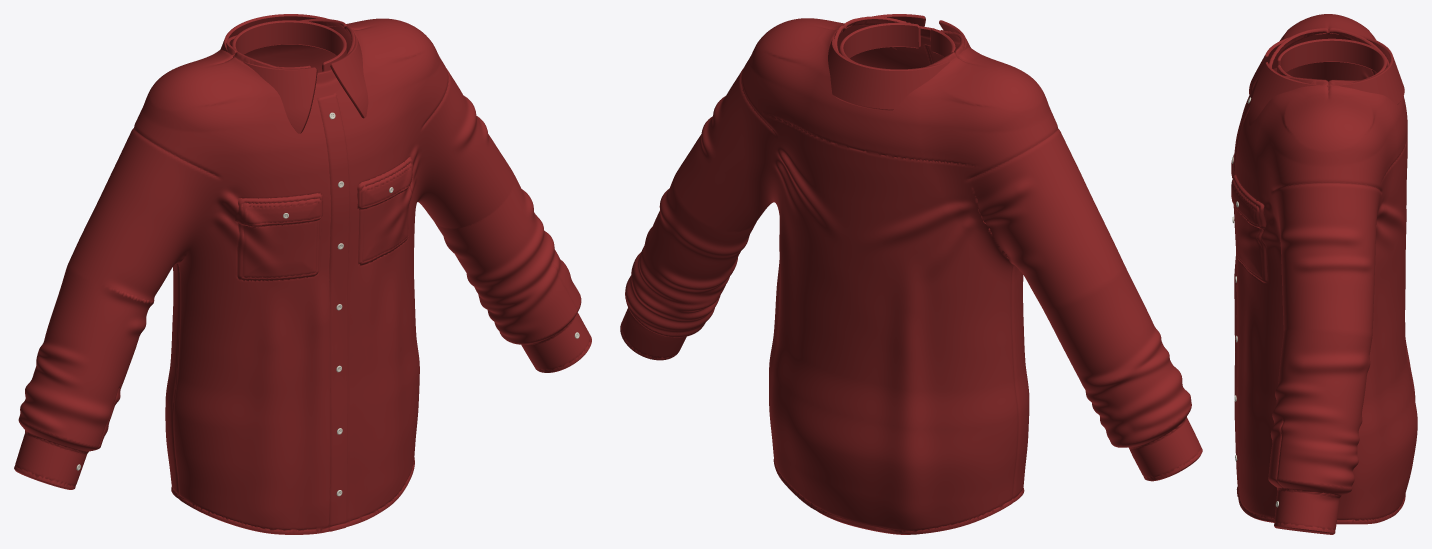
Rendered from 05_camisa_franela.glb.
3 renders of one model, left to right at view 1: azimuth 30°, elevation 25°; view 2: azimuth 150°, elevation 25°; view 3: azimuth 270°, elevation 25°, orthographic. The views are drawn at different scales.
Parts seen in each view (by area): view 1: body; view 2: body; view 3: body.
Part boxes in pixels (bbox=[...]): body: bbox=[14, 14, 591, 534]; body: bbox=[620, 14, 1202, 534]; body: bbox=[1231, 14, 1417, 534].
Bounding box in the file's own units: 1 × 0.7702 × 0.2957.
